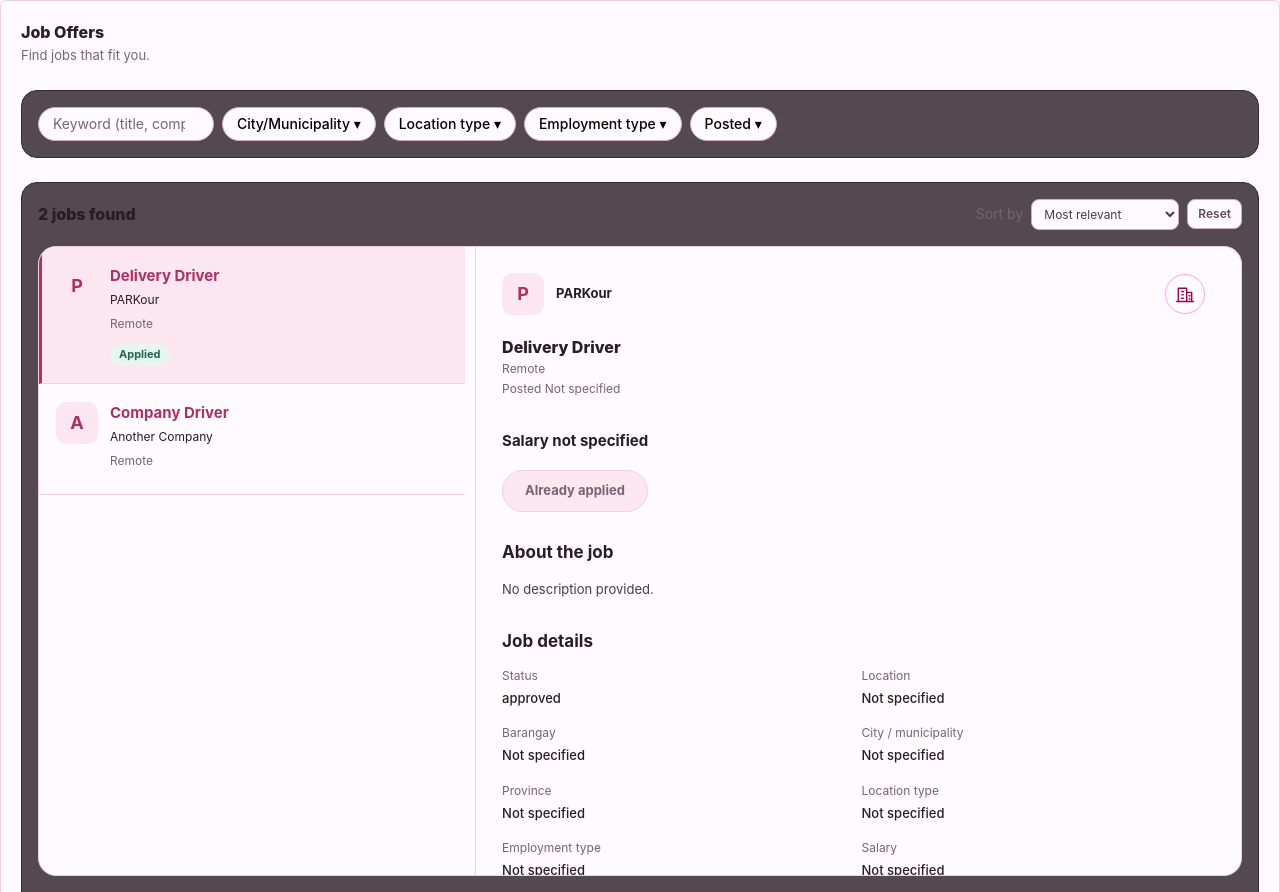
Test: application details beneath their job posting › keeps applied badges and prevents duplicate applications without showing history in Jobs
Expected: the button "Already applied" is disabled, x1=502 y1=470 x2=648 y2=512
Expected: the text "Applied" is shown, x1=110 y1=344 x2=170 y2=365
Step 1. Click the button with aria-label "View Company Driver details" → (77, 423), box x1=39 y1=384 x2=465 y2=495
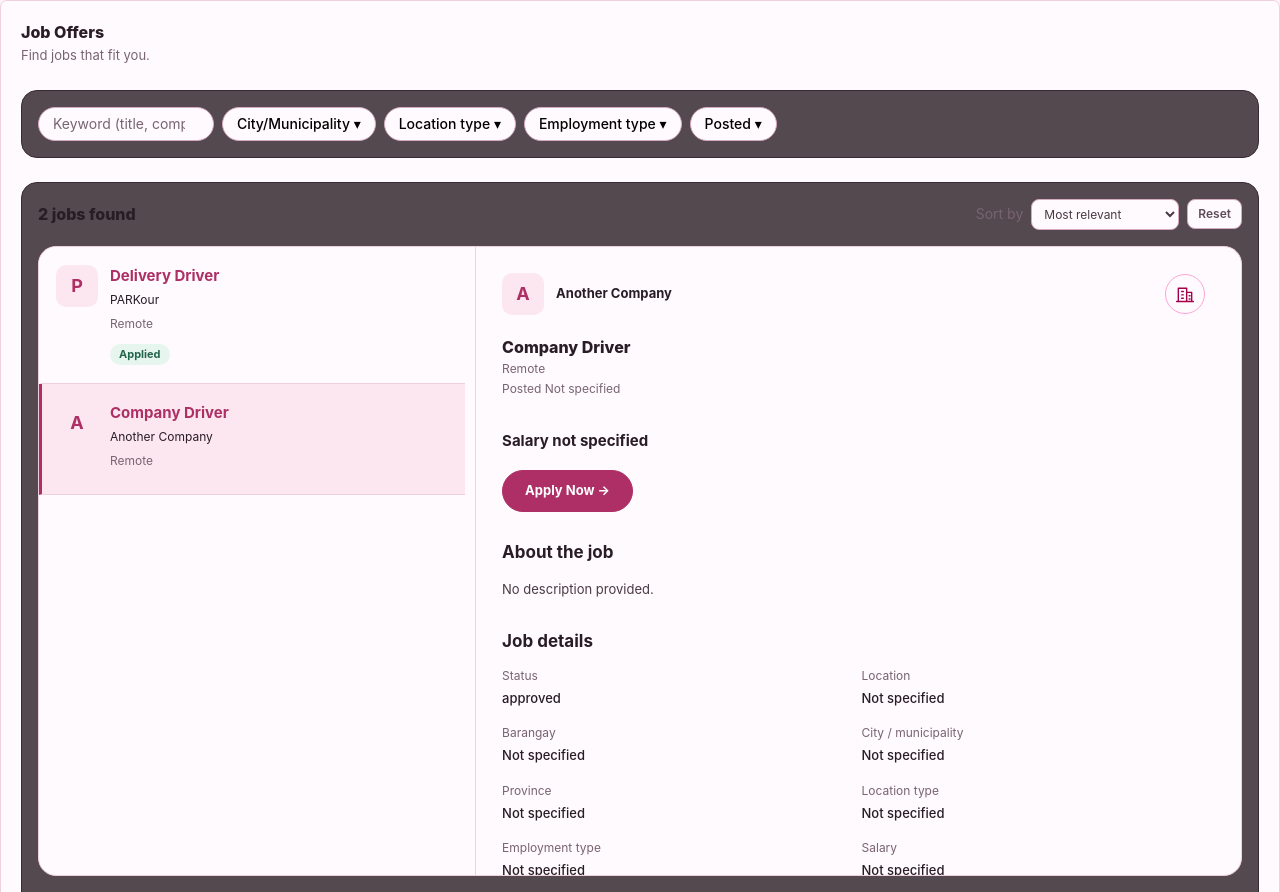
Now the button "Apply Now →" is enabled, box x1=502 y1=470 x2=633 y2=512
